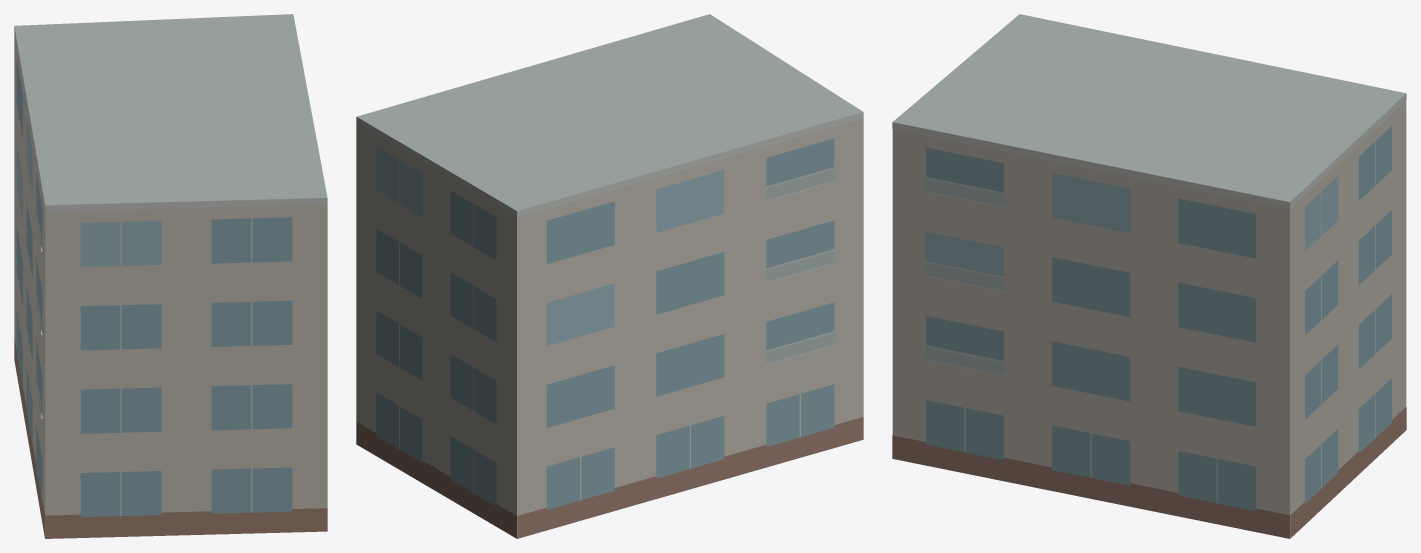
The model's file is survey-upis-32585920.glb.
3 views of the same model, side by side, from view 1: azimuth 30°, elevation 25°; view 2: azimuth 150°, elevation 25°; view 3: azimuth 270°, elevation 25° (orthographic). The views are drawn at different scales.
Parts seen in each view (by area): view 1: survey-upis-32585920.tmp; view 2: survey-upis-32585920.tmp; view 3: survey-upis-32585920.tmp.
Part boxes in pixels (bbox=[...]): survey-upis-32585920.tmp: bbox=[14, 14, 327, 538]; survey-upis-32585920.tmp: bbox=[356, 14, 863, 538]; survey-upis-32585920.tmp: bbox=[892, 14, 1406, 538].
Bounding box in the file's own units: 14.64 × 12.2 × 16.89.
